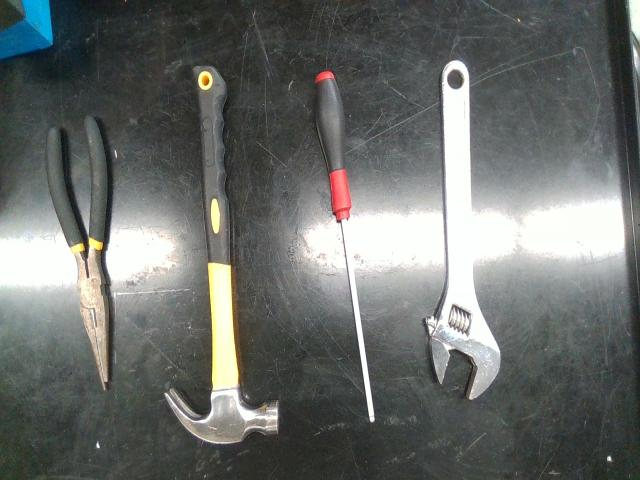Adjustable spanner: (425, 60, 500, 399)
Hammer: (165, 67, 279, 443)
Needle-nose pliers: (46, 115, 109, 390)
Screwdriver: (315, 70, 375, 422)
